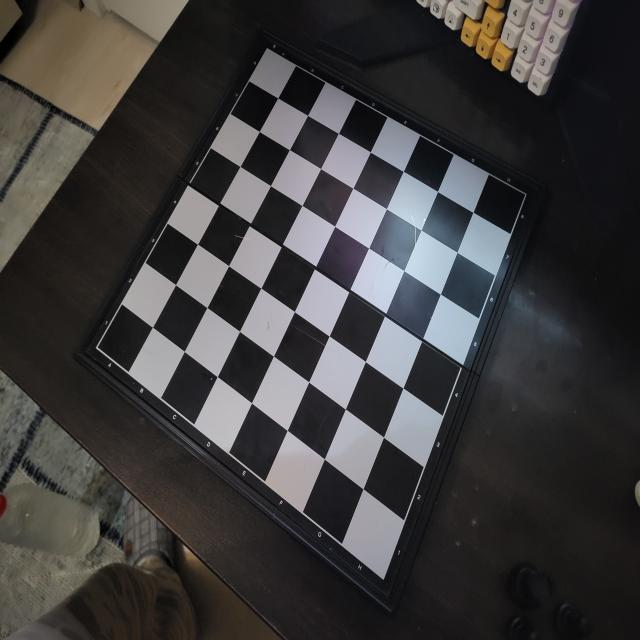chess-board: (89, 39, 532, 605)
